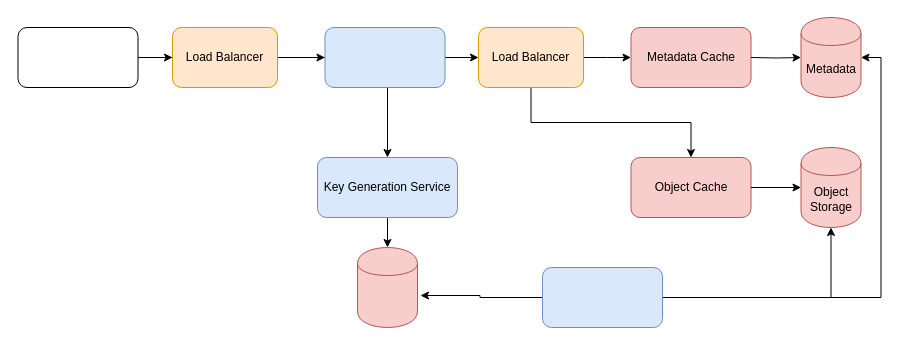
Image size: 906x345. Some labels were removed from this diagram. Each missing label, with the centre of its shape:
Clean Up Service: [602,297]
Client: [77,57]
Key Storage: [387,287]
Web Server: [384,57]
